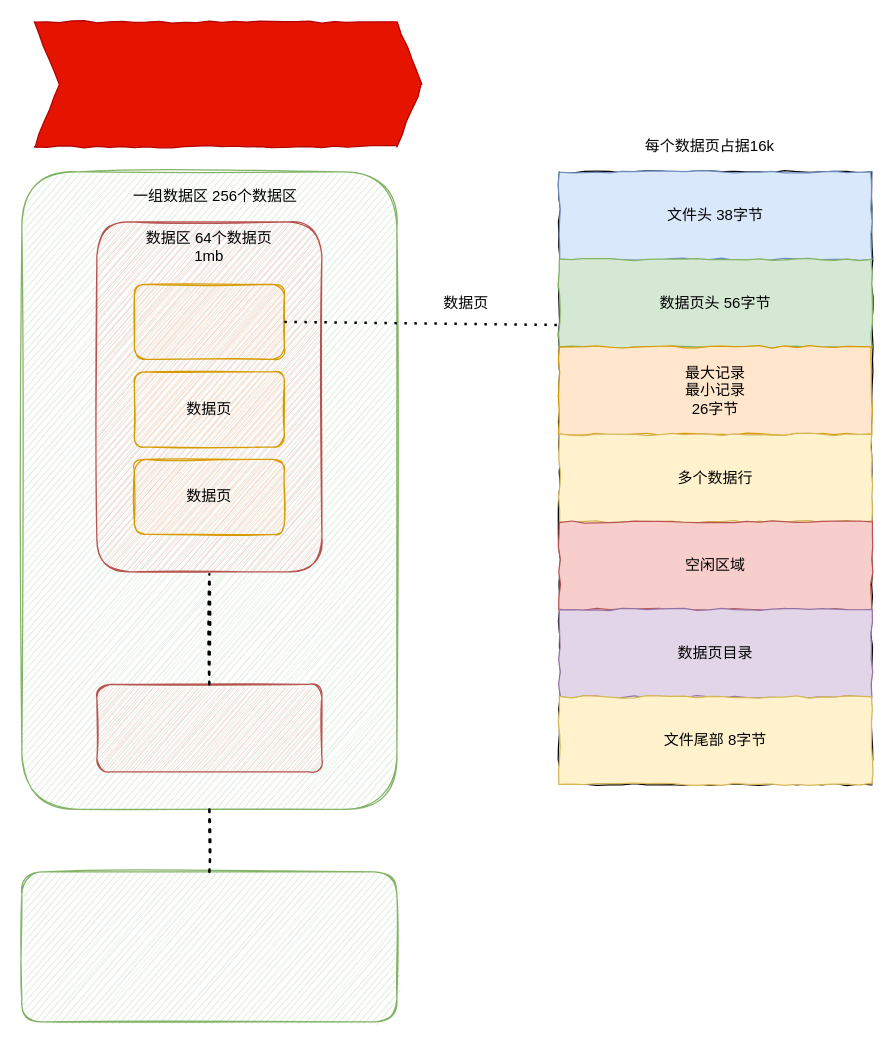
Image size: 894x1044. Some labels were removed from this diagram. Each missing label, with the centre of its shape:
一组数据区: the point at 209,946
数据区: the point at 209,727
数据页 16k: the point at 208,321
每次创建的表对应一个表空间， 表空间对应的是磁盘文件 每个表空间有很多组数据区， 一组数据区是256个数据区 每个数据区包含64个数据页，1mb: the point at 227,84
